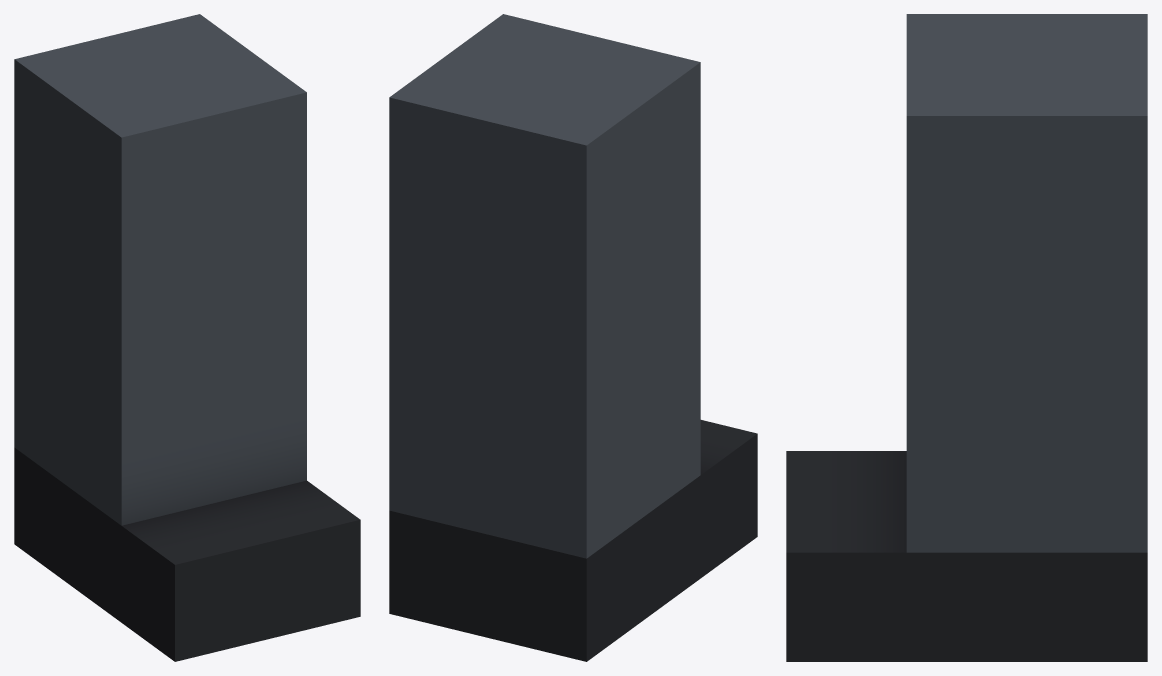
File: cm_leg_e.glb
3 renders of one model, left to right at view 1: azimuth 30°, elevation 25°; view 2: azimuth 150°, elevation 25°; view 3: azimuth 270°, elevation 25°, orthographic. The views are drawn at different scales.
Visible parts, largest first — view 1: cm_leg_e_body; view 2: cm_leg_e_body; view 3: cm_leg_e_body.
Boxes of the visible parts, x1,y1,x2,y2 form: cm_leg_e_body: [14, 14, 360, 661]; cm_leg_e_body: [389, 14, 757, 661]; cm_leg_e_body: [786, 14, 1147, 661].
Bounding box in the file's own units: 0.125 × 0.3125 × 0.1875.
1 material, 1 textured.
